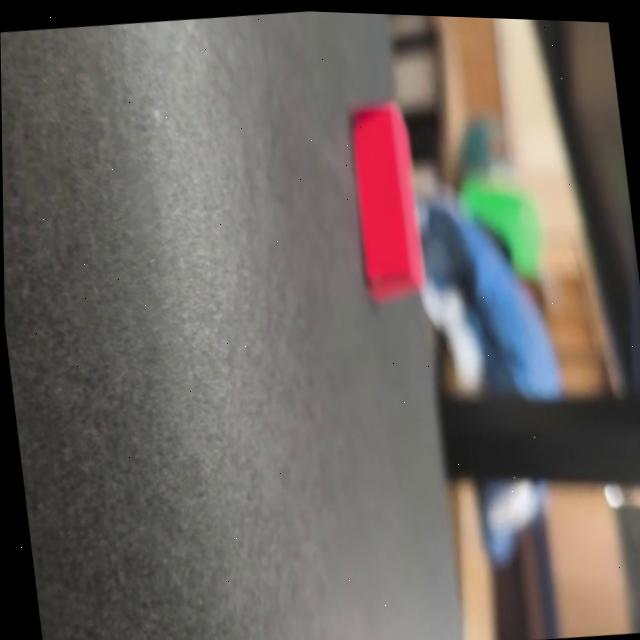red block: (343, 99, 430, 307)
